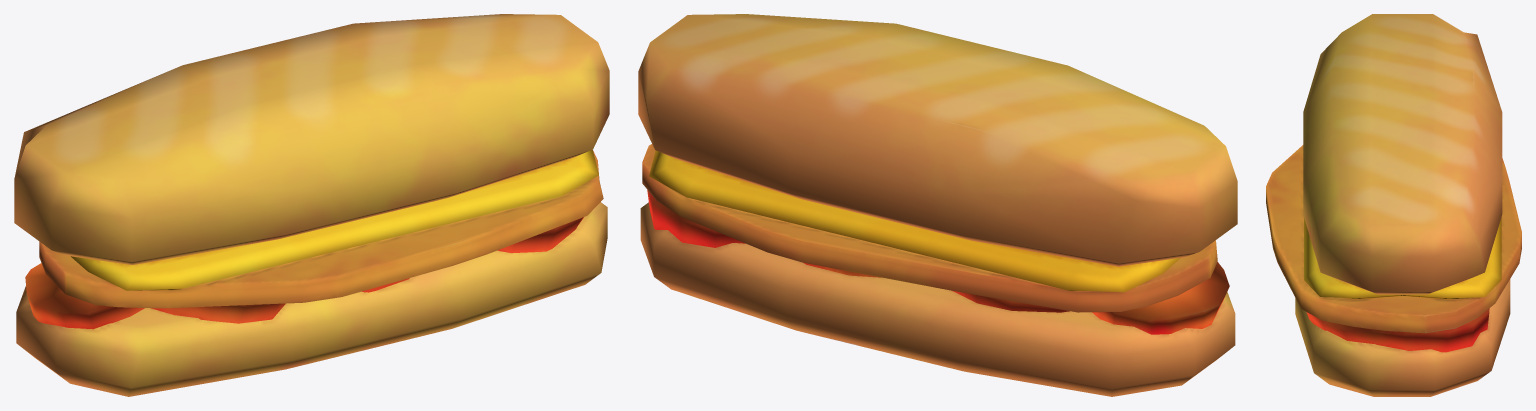
Rendered from sandwich.glb.
The picture shows the model from 3 angles, left to right: view 1: azimuth 30°, elevation 25°; view 2: azimuth 150°, elevation 25°; view 3: azimuth 270°, elevation 25°; orthographic projection. The views are drawn at different scales.
Visible parts, largest first — view 1: Sandwich_Food_Pack_Materials_1_10_0; view 2: Sandwich_Food_Pack_Materials_1_10_0; view 3: Sandwich_Food_Pack_Materials_1_10_0.
Boxes of the visible parts, <box> form: Sandwich_Food_Pack_Materials_1_10_0: <box>14,14,609,396</box>; Sandwich_Food_Pack_Materials_1_10_0: <box>638,14,1237,396</box>; Sandwich_Food_Pack_Materials_1_10_0: <box>1266,14,1521,396</box>.
Bounding box in the file's own units: 2.11 × 0.8512 × 1.03.
1 material, 1 textured.
